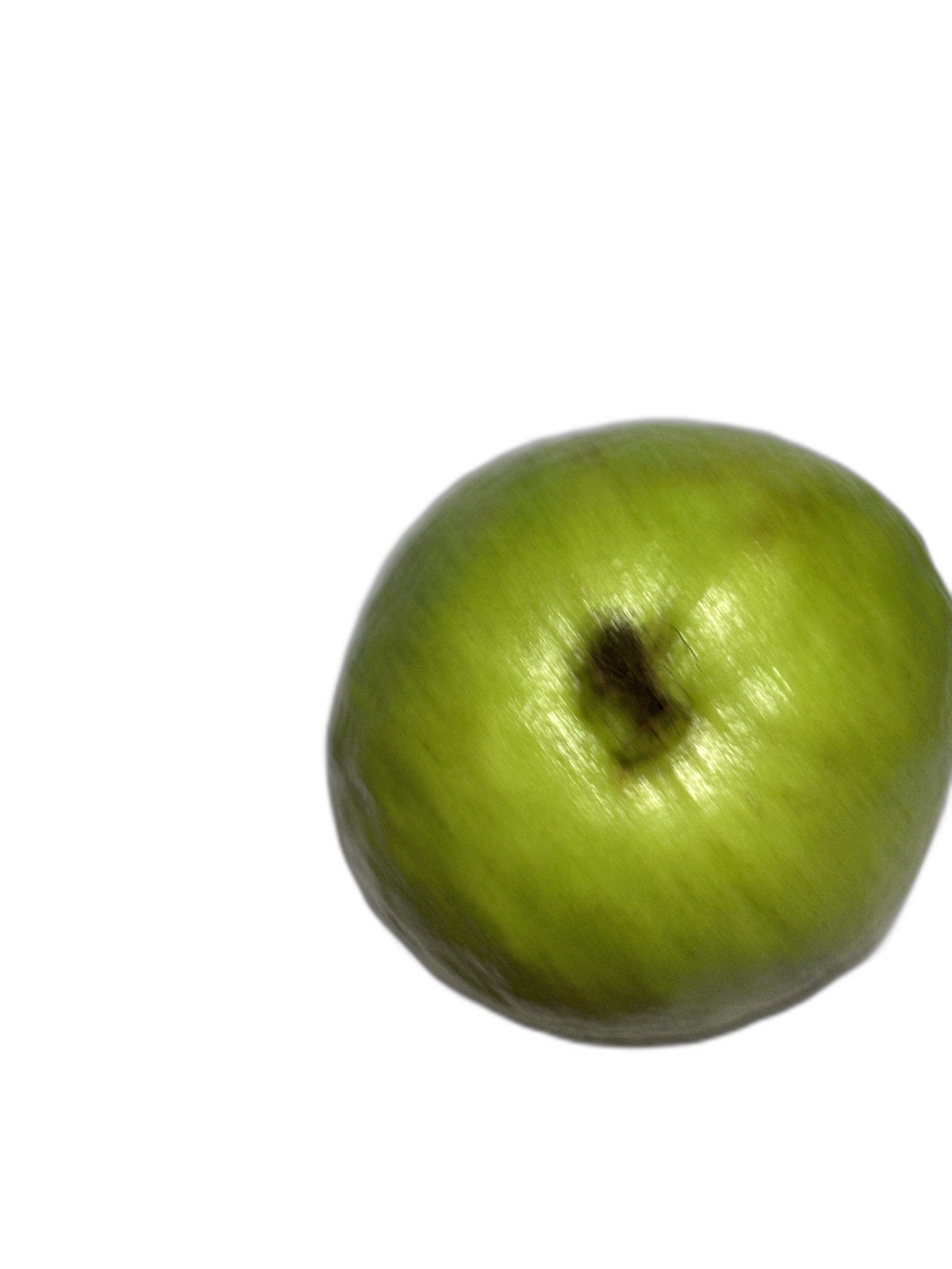guava: (265, 38, 852, 1126)
